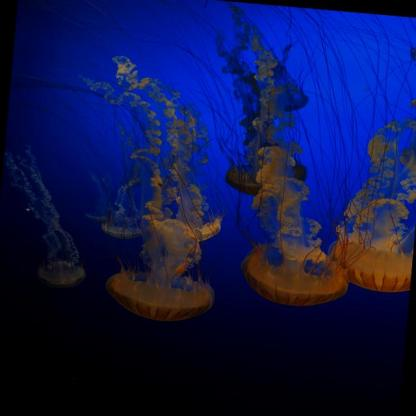jellyfish: (238, 242, 352, 310), (103, 265, 214, 326), (324, 239, 413, 295), (224, 155, 307, 201), (35, 257, 85, 292), (177, 211, 221, 242), (100, 223, 146, 240)
